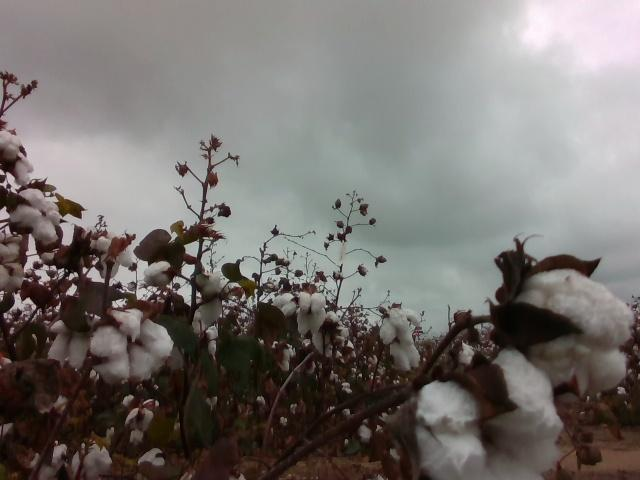cotton_ready: (413, 348, 563, 480), (509, 267, 632, 392), (90, 309, 171, 383), (11, 189, 63, 243), (47, 321, 90, 372), (192, 272, 223, 336), (89, 235, 134, 279), (0, 130, 34, 186), (123, 395, 159, 446), (379, 309, 423, 345), (72, 442, 112, 480), (313, 312, 348, 355), (297, 291, 327, 336), (32, 443, 68, 480), (137, 447, 166, 480), (391, 344, 421, 374), (0, 263, 25, 294), (142, 262, 171, 287), (0, 232, 21, 265), (204, 320, 220, 358), (271, 294, 298, 316), (39, 246, 62, 266)
